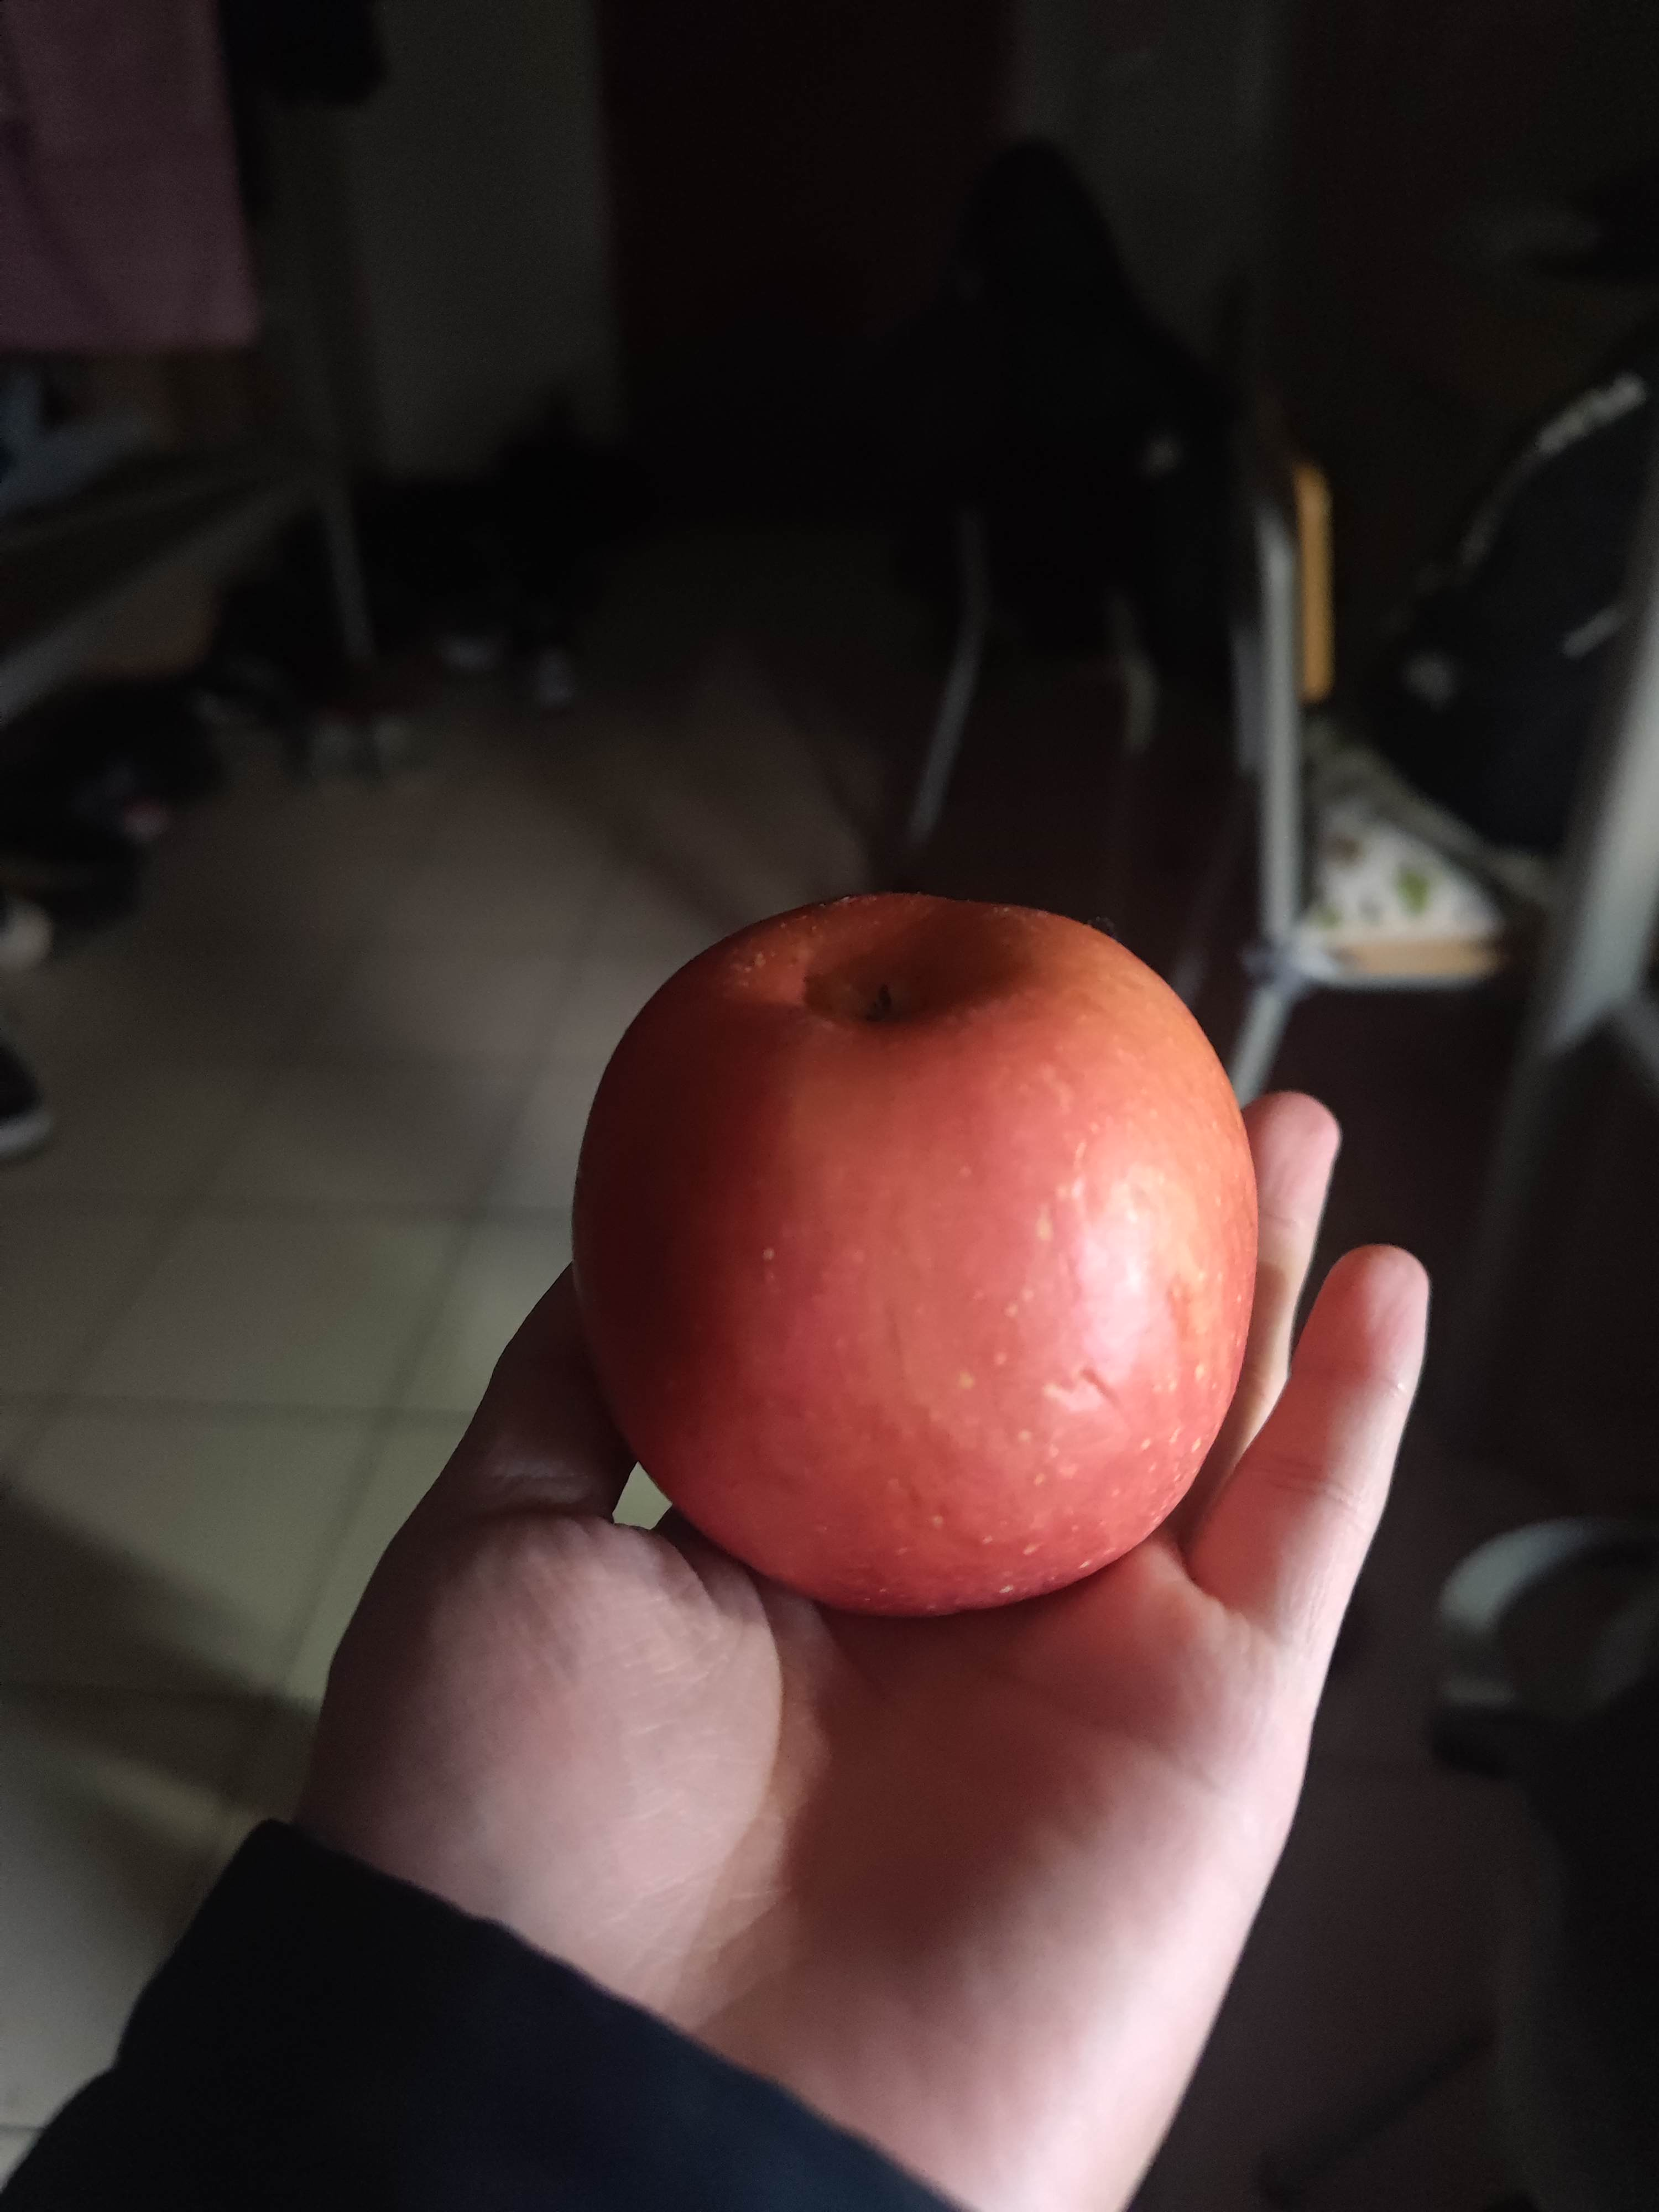apple: (570, 867, 1263, 1608)
